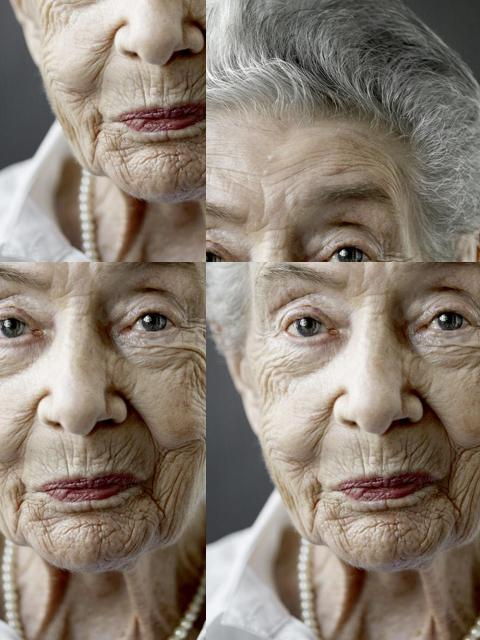chin: (362, 514, 418, 548), (324, 502, 350, 538), (430, 506, 450, 546)
crows_feet: (262, 48, 272, 62)
forehead: (207, 17, 232, 28)
frown_line: (354, 262, 371, 296)
gummy_smile: (414, 386, 458, 444), (308, 403, 338, 452)
masseter: (274, 448, 300, 484), (473, 441, 480, 488)
sad_smile: (440, 461, 464, 495), (306, 481, 324, 517), (250, 89, 264, 109)
